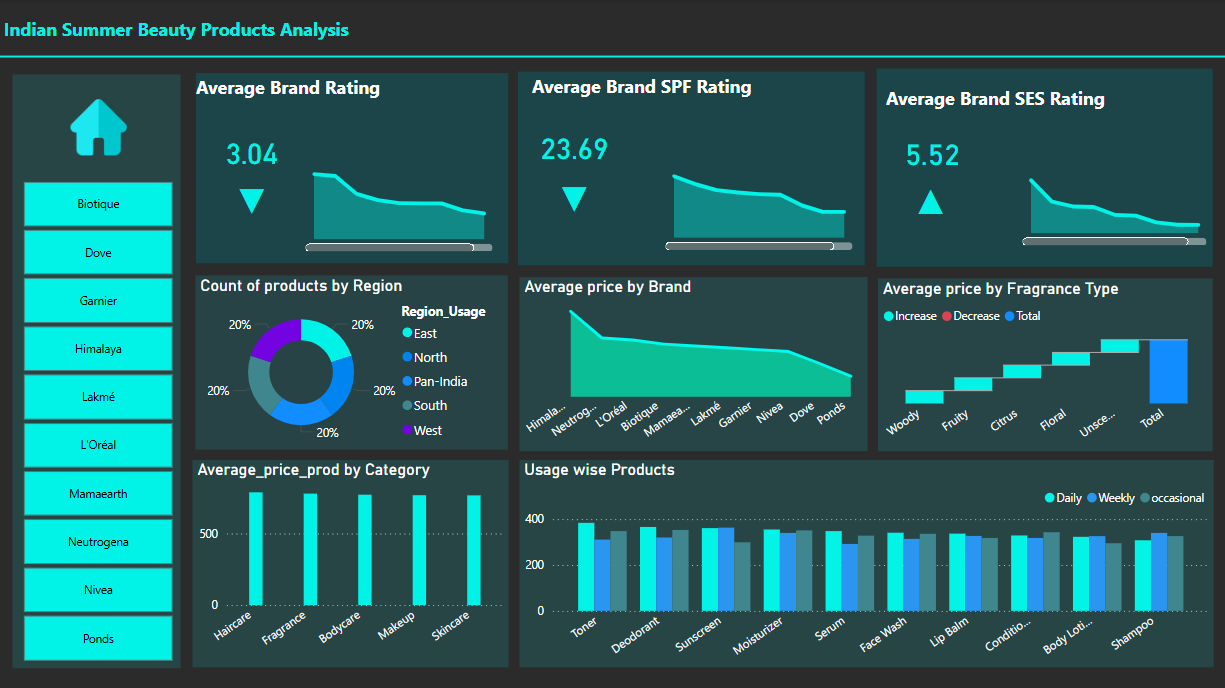

This screenshot's page, from the dashboard's own definition file:
{"tool":"powerbi","page":{"name":"Page 1","canvas":[1280,720],"ordinal":0},"visuals":[{"type":"clusteredColumnChart","fields":{"Category":["indian_summer_beauty_products.Category"],"Y":["Calculation group.Average_price_prod"]},"box":[202.3,481.8,329.5,215.9],"z":0},{"type":"shape","box":[204.9,78.7,325.9,198.3],"z":1000},{"type":"shape","box":[541.2,76.1,361.3,202.3],"z":2000},{"type":"shape","box":[914,73,350.4,207],"z":3000},{"type":"clusteredColumnChart","title":"Usage wise Products","fields":{"Category":["indian_summer_beauty_products.Product_Name"],"Y":["Calculation group.count_of_Daily","Calculation group.count_of_week","Calculation group.count_of_occa"]},"box":[542.8,481.8,723.2,215.9],"z":4000},{"type":"lineChart","title":"Average Rating by Brand","fields":{"Category":["indian_summer_beauty_products.Brand"],"Y":["Calculation group.Average_Rating"]},"box":[313.9,165.3,204.9,103.2],"z":5000},{"type":"lineChart","title":"Average Rating by Brand","fields":{"Category":["indian_summer_beauty_products.Brand"],"Y":["Calculation group.Average_of_Spf"]},"box":[689.3,163.2,204.9,104.8],"z":6000},{"type":"lineChart","title":"Average Rating by Brand","fields":{"Category":["indian_summer_beauty_products.Brand"],"Y":["Calculation group.Average_SES"]},"box":[1061.5,159.5,201.8,103.2],"z":7000},{"type":"shape","box":[0,14.6,1279.5,93.8],"z":8000},{"type":"card","fields":{"Values":["Calculation group.ArrowIndicator"]},"box":[224.6,187.2,75.3,44.2],"z":9000},{"type":"card","fields":{"Values":["Calculation group.ApI SPF"]},"box":[560.6,183.8,75.3,46.1],"z":10000},{"type":"card","fields":{"Values":["Calculation group.API SES"]},"box":[933.5,189.8,74,44.2],"z":11000},{"type":"donutChart","title":"Count of products by Region","fields":{"Y":["Calculation group.no_of_products"],"Category":["indian_summer_beauty_products.Region_Usage"]},"box":[204.9,289.4,325.3,181.4],"z":12000},{"type":"card","title":"Avg of Price by Brand","fields":{"Values":["Calculation group.Average_Rating"]},"box":[216.4,140.1,95,38.5],"z":13000},{"type":"card","title":"Avg of Price by Brand","fields":{"Values":["Calculation group.Average_of_Spf"]},"box":[552.4,134.7,95,40.2],"z":14000},{"type":"card","title":"Avg of Price by Brand","fields":{"Values":["Calculation group.Average_SES"]},"box":[925.5,142.7,93.3,38.5],"z":15000},{"type":"stackedAreaChart","title":"Average price by Brand","fields":{"Category":["indian_summer_beauty_products.Brand"],"Y":["Calculation group.Average_price_prod"]},"box":[542.8,290.4,362.9,181.4],"z":16000},{"type":"waterfallChart","title":"Average price by Fragrance Type","fields":{"Category":["indian_summer_beauty_products.Fragrance_Type"],"Y":["Calculation group.Average_price_prod"]},"box":[916.1,292,348.8,179.9],"z":17000},{"type":"textbox","box":[200.2,75.1,222.1,40.7],"z":18000},{"type":"textbox","box":[550.6,73.5,261.2,42.2],"z":19000},{"type":"textbox","box":[919.5,86.4,262.5,41.4],"z":20000},{"type":"textbox","box":[0,14.1,933.8,34.4],"z":21000},{"type":"shape","box":[14.1,79.3,175.1,618.9],"z":21001,"group":"g1"},{"type":"slicer","fields":{"Values":["indian_summer_beauty_products.Brand"]},"box":[0,184.5,204.8,512.7],"z":21002,"group":"g1"},{"type":"image","box":[48.5,100,111,68.8],"z":21004,"group":"g1"},{"type":"group","id":"g1","title":"Group 1","box":[0,79.3,204.8,618.9],"z":21005}]}

Visuals, with their boxes in screenshot pixels (x1, y1, x2, y2), scaled from the page's 1280x720 canvas onto the 1225x688 screenshot:
clusteredColumnChart - indian_summer_beauty_products.Category x Calculation group.Average_price_prod: locate(194, 460, 509, 667)
shape: locate(196, 75, 508, 265)
shape: locate(518, 73, 864, 266)
shape: locate(875, 70, 1210, 268)
"Usage wise Products" clusteredColumnChart: locate(519, 460, 1212, 667)
"Average Rating by Brand" lineChart: locate(300, 158, 497, 257)
"Average Rating by Brand" lineChart: locate(660, 156, 856, 256)
"Average Rating by Brand" lineChart: locate(1016, 152, 1209, 251)
shape: locate(0, 14, 1224, 104)
card - Calculation group.ArrowIndicator: locate(215, 179, 287, 221)
card - Calculation group.ApI SPF: locate(537, 176, 609, 220)
card - Calculation group.API SES: locate(893, 181, 964, 224)
"Count of products by Region" donutChart: locate(196, 277, 507, 450)
"Avg of Price by Brand" card: locate(207, 134, 298, 171)
"Avg of Price by Brand" card: locate(529, 129, 620, 167)
"Avg of Price by Brand" card: locate(886, 136, 975, 173)
"Average price by Brand" stackedAreaChart: locate(519, 277, 867, 451)
"Average price by Fragrance Type" waterfallChart: locate(877, 279, 1211, 451)
textbox: locate(192, 72, 404, 111)
textbox: locate(527, 70, 777, 111)
textbox: locate(880, 83, 1131, 122)
textbox: locate(0, 13, 894, 46)
shape: locate(13, 76, 181, 667)
slicer - indian_summer_beauty_products.Brand: locate(0, 176, 196, 666)
image: locate(46, 96, 153, 161)
"Group 1" group: locate(0, 76, 196, 667)
